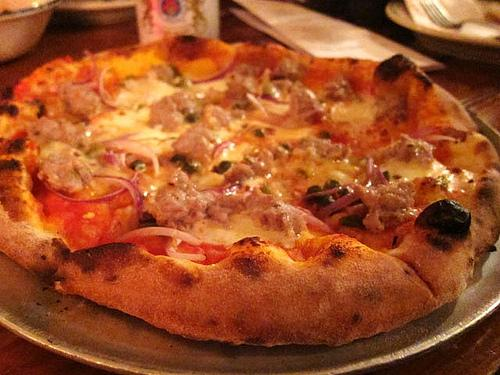onion: (43, 171, 138, 203), (100, 131, 160, 179), (93, 175, 145, 219), (190, 44, 240, 84), (116, 227, 202, 246), (316, 190, 360, 222), (286, 204, 334, 231), (98, 68, 124, 107), (165, 237, 206, 261), (72, 50, 96, 84), (246, 93, 270, 118), (211, 140, 232, 160), (300, 107, 322, 126), (409, 126, 440, 137), (259, 94, 290, 104), (305, 188, 339, 197), (216, 184, 243, 194), (376, 164, 388, 186), (200, 189, 221, 198), (427, 135, 457, 141), (72, 116, 90, 126), (106, 155, 119, 165)
